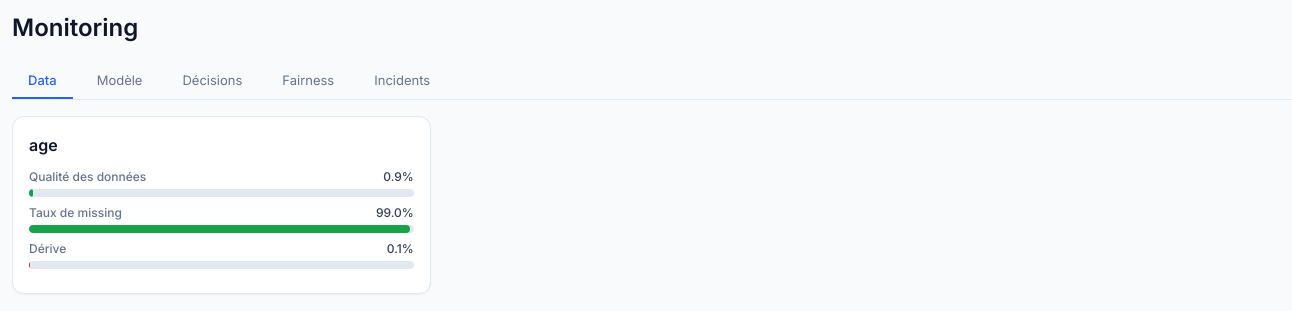
Test: MonitoringPage › shows model performance metrics on the model tab
Step 1. Click the tab "Modèle" → coordinates (120, 80), box [81, 60, 158, 99]
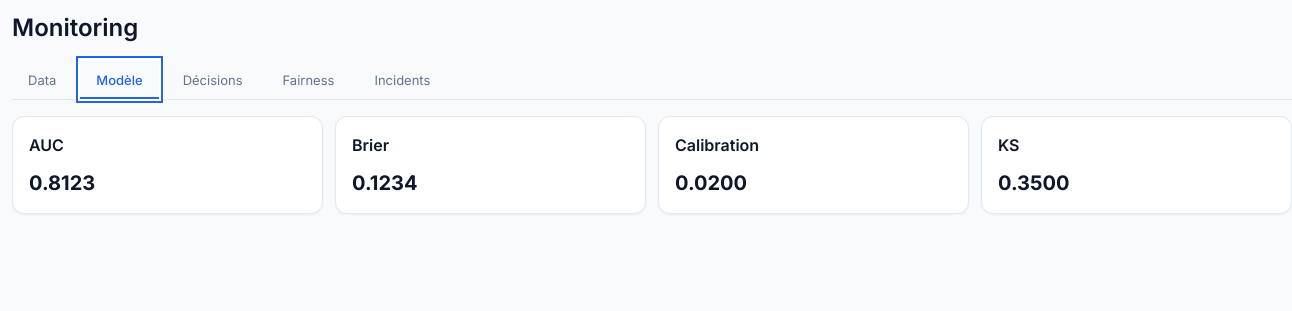
expect the text "0.8123" is shown: met, box [29, 171, 95, 195]
expect the text "0.1234" is shown: met, box [352, 171, 417, 195]
expect the heading "KS" is shown: met, box [998, 133, 1020, 157]
